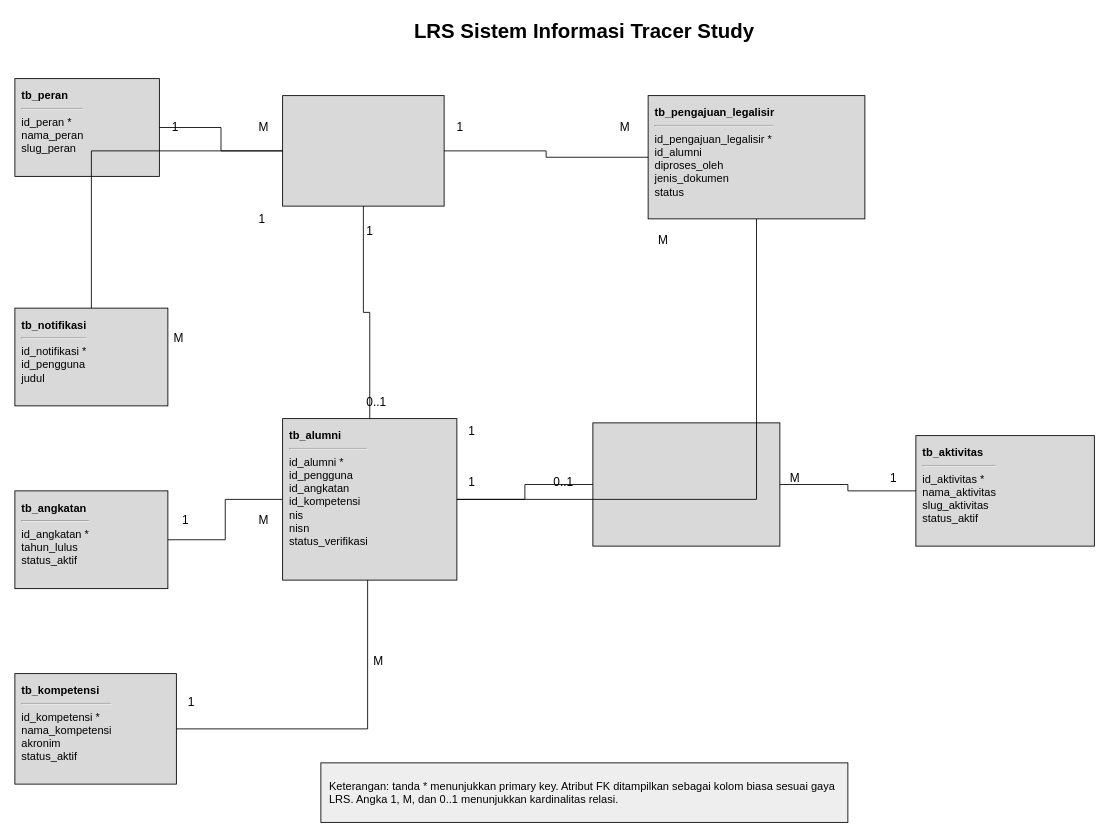
The diagram is 1109 pixels wide and 837 high, and some of its shapes have lost their labels. The box of each missing label's shape, as (x1, y1, x2, y2) in pixels:
tb_pengguna id_pengguna * id_peran nama_lengkap email: (282, 95, 444, 206)
tb_tracer_alumni id_tracer * id_alumni id_aktivitas status tanggal_pengisian: (592, 422, 780, 546)
